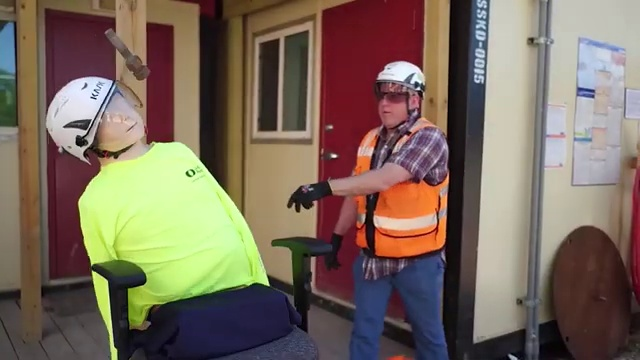helmet: (33, 73, 118, 171), (369, 53, 431, 98)
jacket: (347, 117, 458, 256)
